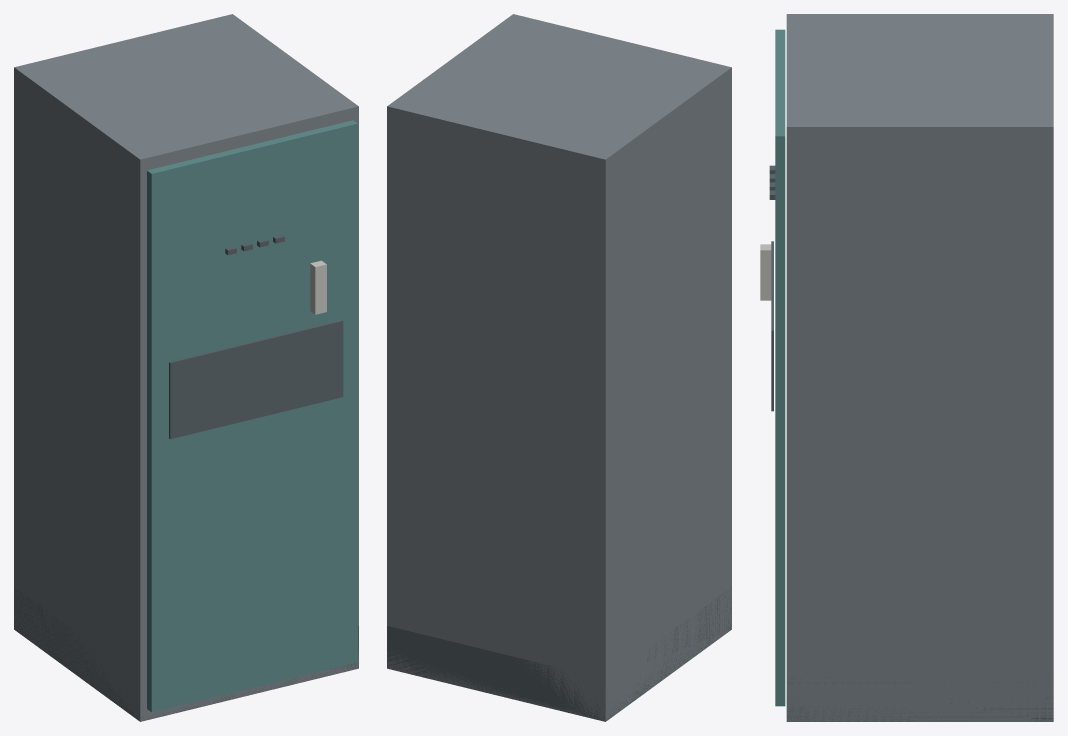
File: CLS-017.glb
3 renders of one model, left to right at view 1: azimuth 30°, elevation 25°; view 2: azimuth 150°, elevation 25°; view 3: azimuth 270°, elevation 25°, orthographic. The views are drawn at different scales.
Visible parts, largest first — view 1: 000_Cabinet_housing, 001_Door_panel, 002_Door_inset, 008_Lower_plinth, 003_Handle; view 2: 000_Cabinet_housing, 008_Lower_plinth; view 3: 000_Cabinet_housing, 001_Door_panel, 008_Lower_plinth, 003_Handle, 002_Door_inset.
Boxes of the visible parts, x1=… form: 000_Cabinet_housing: x1=14, y1=14, x2=358, y2=721; 001_Door_panel: x1=147, y1=120, x2=357, y2=712; 002_Door_inset: x1=169, y1=320, x2=343, y2=439; 008_Lower_plinth: x1=14, y1=588, x2=358, y2=721; 003_Handle: x1=310, y1=260, x2=326, y2=314; 000_Cabinet_housing: x1=387, y1=14, x2=731, y2=721; 008_Lower_plinth: x1=387, y1=587, x2=731, y2=721; 000_Cabinet_housing: x1=786, y1=14, x2=1053, y2=721; 001_Door_panel: x1=775, y1=29, x2=785, y2=706; 008_Lower_plinth: x1=787, y1=677, x2=1053, y2=721; 003_Handle: x1=760, y1=244, x2=771, y2=300; 002_Door_inset: x1=771, y1=241, x2=773, y2=411.
Size of the model in its own units: 0.48 by 1.18 by 0.527.
